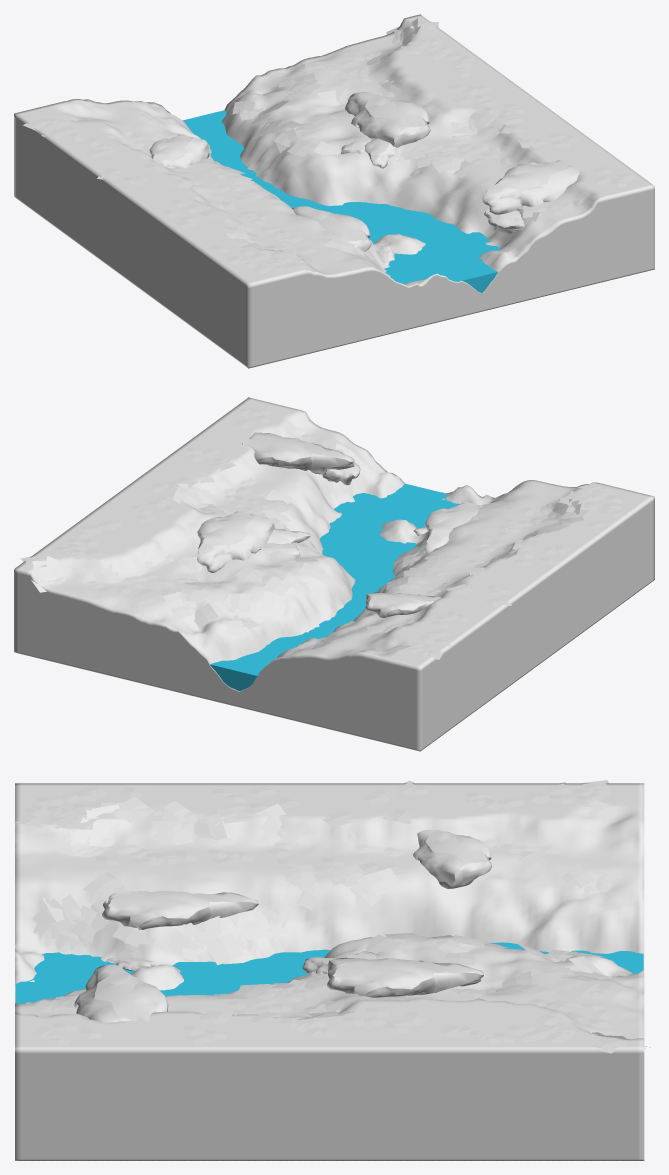
The model's file is Desidouse Forest_Land.fbx.
The picture shows the model from 3 angles, top to bottom: view 1: azimuth 30°, elevation 25°; view 2: azimuth 150°, elevation 25°; view 3: azimuth 270°, elevation 25°; orthographic projection. The views are drawn at different scales.
Visible parts, largest first — view 1: Land, Dry Leaes.296, River, c5233a6c6cec48bcb40fcfc665521932.004, c5233a6c6cec48bcb40fcfc665521932, Rock-2, c5233a6c6cec48bcb40fcfc665521932.007, c5233a6c6cec48bcb40fcfc665521932.005, c5233a6c6cec48bcb40fcfc665521932.003; view 2: Land, Dry Leaes.296, River, c5233a6c6cec48bcb40fcfc665521932, c5233a6c6cec48bcb40fcfc665521932.004, Rock-2, c5233a6c6cec48bcb40fcfc665521932.007; view 3: Land, Dry Leaes.296, River, c5233a6c6cec48bcb40fcfc665521932, c5233a6c6cec48bcb40fcfc665521932.007, c5233a6c6cec48bcb40fcfc665521932.004, Rock-2.
Part boxes in pixels (x1,y1,x2,y2): Land: (14, 14, 654, 368); Dry Leaes.296: (27, 20, 636, 273); River: (182, 110, 500, 293); c5233a6c6cec48bcb40fcfc665521932.004: (482, 159, 579, 214); c5233a6c6cec48bcb40fcfc665521932: (345, 92, 430, 147); Rock-2: (149, 134, 371, 168); c5233a6c6cec48bcb40fcfc665521932.007: (292, 206, 371, 251); c5233a6c6cec48bcb40fcfc665521932.005: (484, 208, 524, 233); c5233a6c6cec48bcb40fcfc665521932.003: (364, 138, 396, 168); Land: (14, 397, 654, 751); Dry Leaes.296: (24, 407, 623, 657); River: (210, 483, 460, 691); c5233a6c6cec48bcb40fcfc665521932: (197, 510, 275, 572); c5233a6c6cec48bcb40fcfc665521932.004: (242, 432, 354, 474); Rock-2: (262, 543, 440, 617); c5233a6c6cec48bcb40fcfc665521932.007: (424, 501, 483, 553); Land: (15, 783, 644, 1160); Dry Leaes.296: (19, 781, 646, 1050); River: (15, 942, 643, 1003); c5233a6c6cec48bcb40fcfc665521932: (327, 958, 483, 997); c5233a6c6cec48bcb40fcfc665521932.007: (102, 891, 258, 929); c5233a6c6cec48bcb40fcfc665521932.004: (74, 964, 168, 1022); Rock-2: (346, 830, 492, 959).
Size of the model in its own units: 4527 by 912 by 4481.
